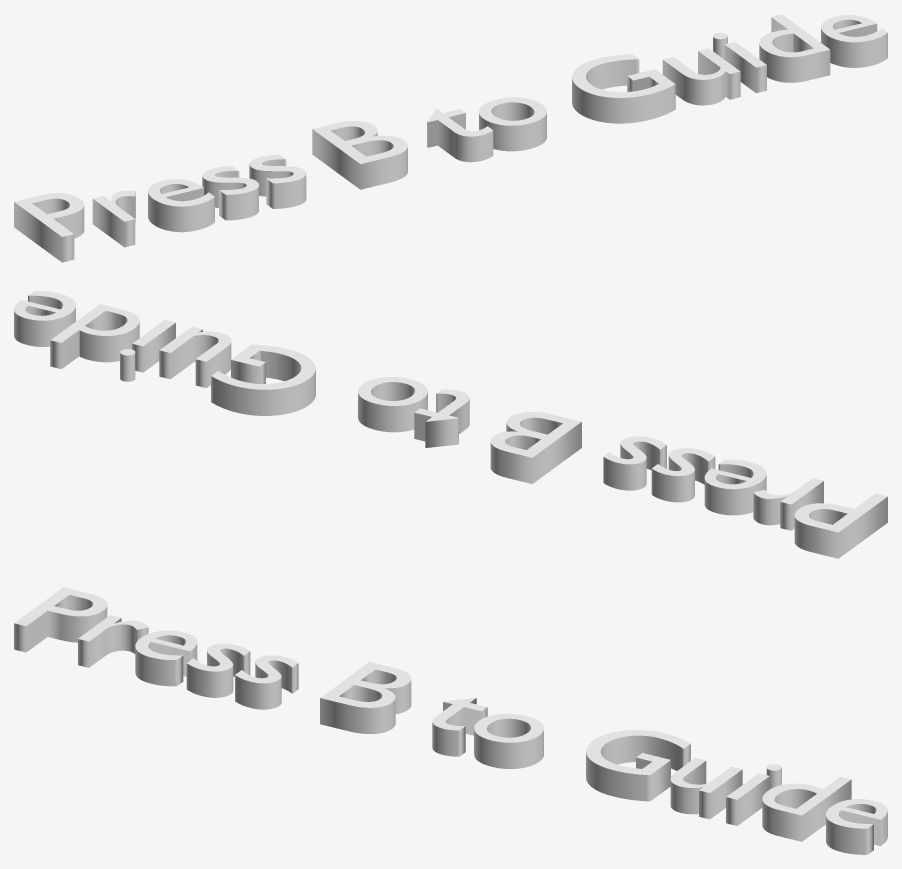
The model's file is PressBToGuide.gltf.
3 views of the same model, one above another, from view 1: azimuth 30°, elevation 25°; view 2: azimuth 150°, elevation 25°; view 3: azimuth 330°, elevation 25° (orthographic). The views are drawn at different scales.
Parts seen in each view (by area): view 1: テキスト; view 2: テキスト; view 3: テキスト.
Boxes of the visible parts, <box> form: テキスト: <box>14,14,887,262</box>; テキスト: <box>14,291,887,558</box>; テキスト: <box>14,587,887,854</box>.
Size of the model in its own units: 6.78 by 0.2 by 0.7.
Materials: 1 (1 with a texture image).
